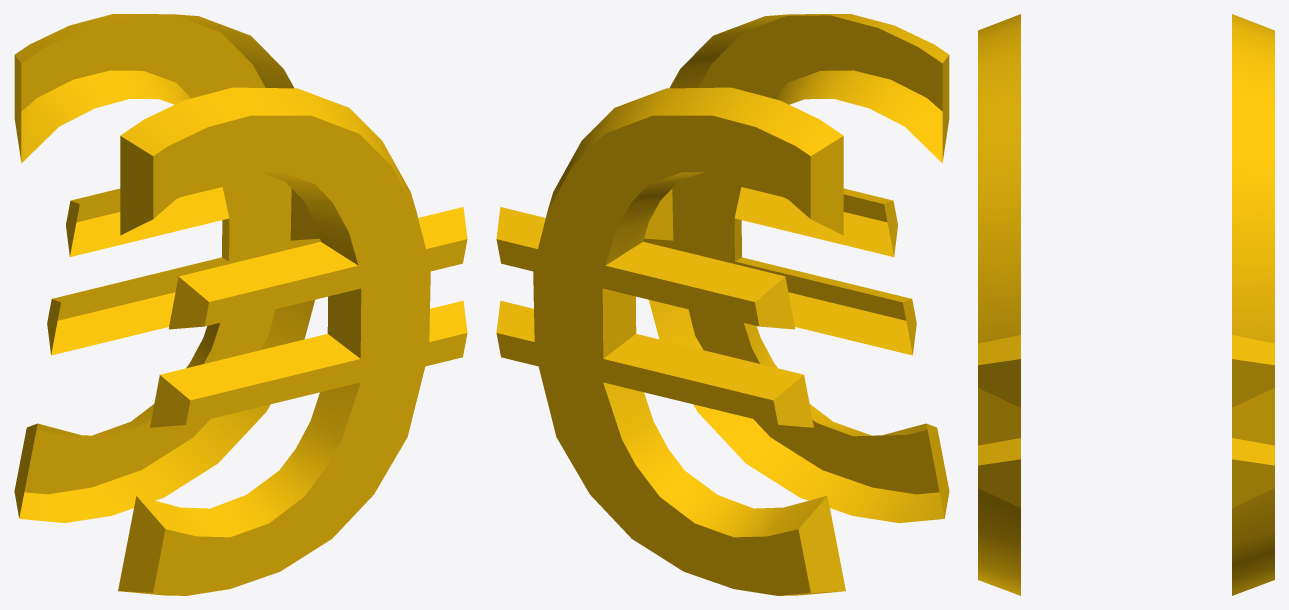
Rendered from Euro.fbx.
3 views of the same model, side by side, from view 1: azimuth 30°, elevation 25°; view 2: azimuth 150°, elevation 25°; view 3: azimuth 270°, elevation 25° (orthographic). The views are drawn at different scales.
Visible parts, largest first — view 1: Euro; view 2: Euro; view 3: Euro.
Part boxes in pixels (x1=…): Euro: x1=14, y1=14, x2=467, y2=595; Euro: x1=496, y1=14, x2=949, y2=595; Euro: x1=978, y1=14, x2=1274, y2=595.
Size of the model in its own units: 66.28 by 90.74 by 46.08.
